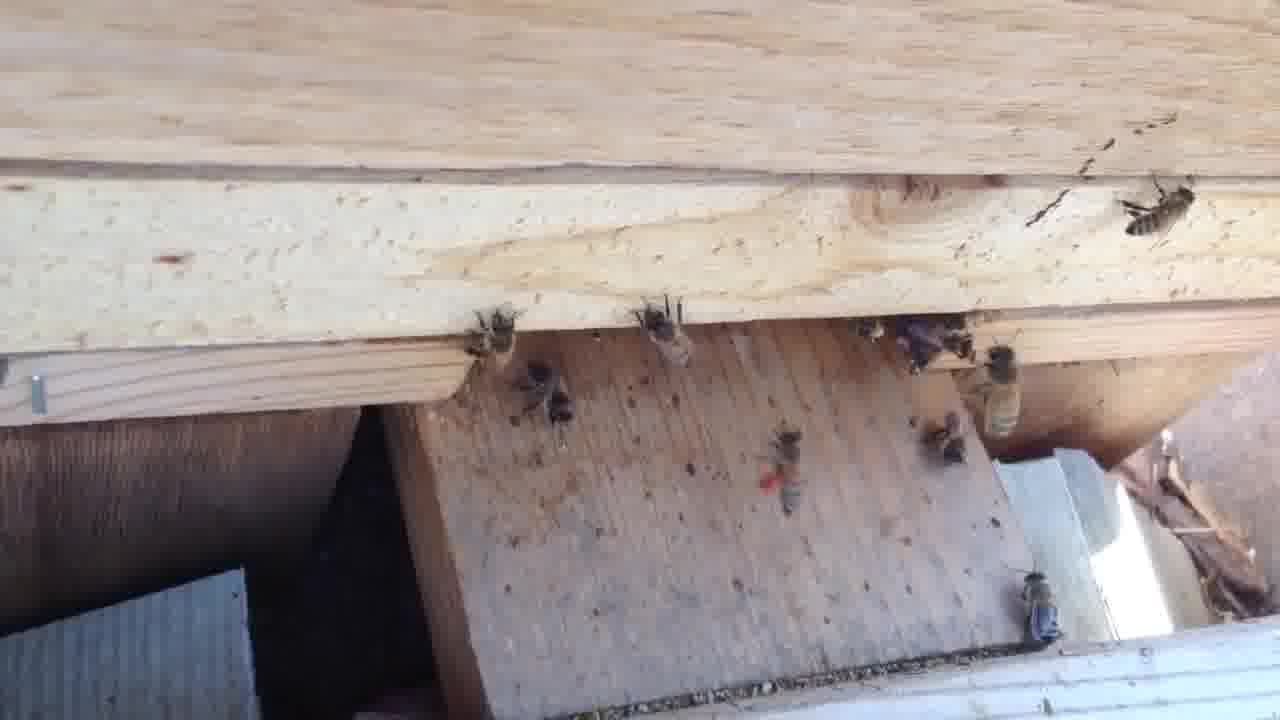pollen: (758, 425, 815, 514)
